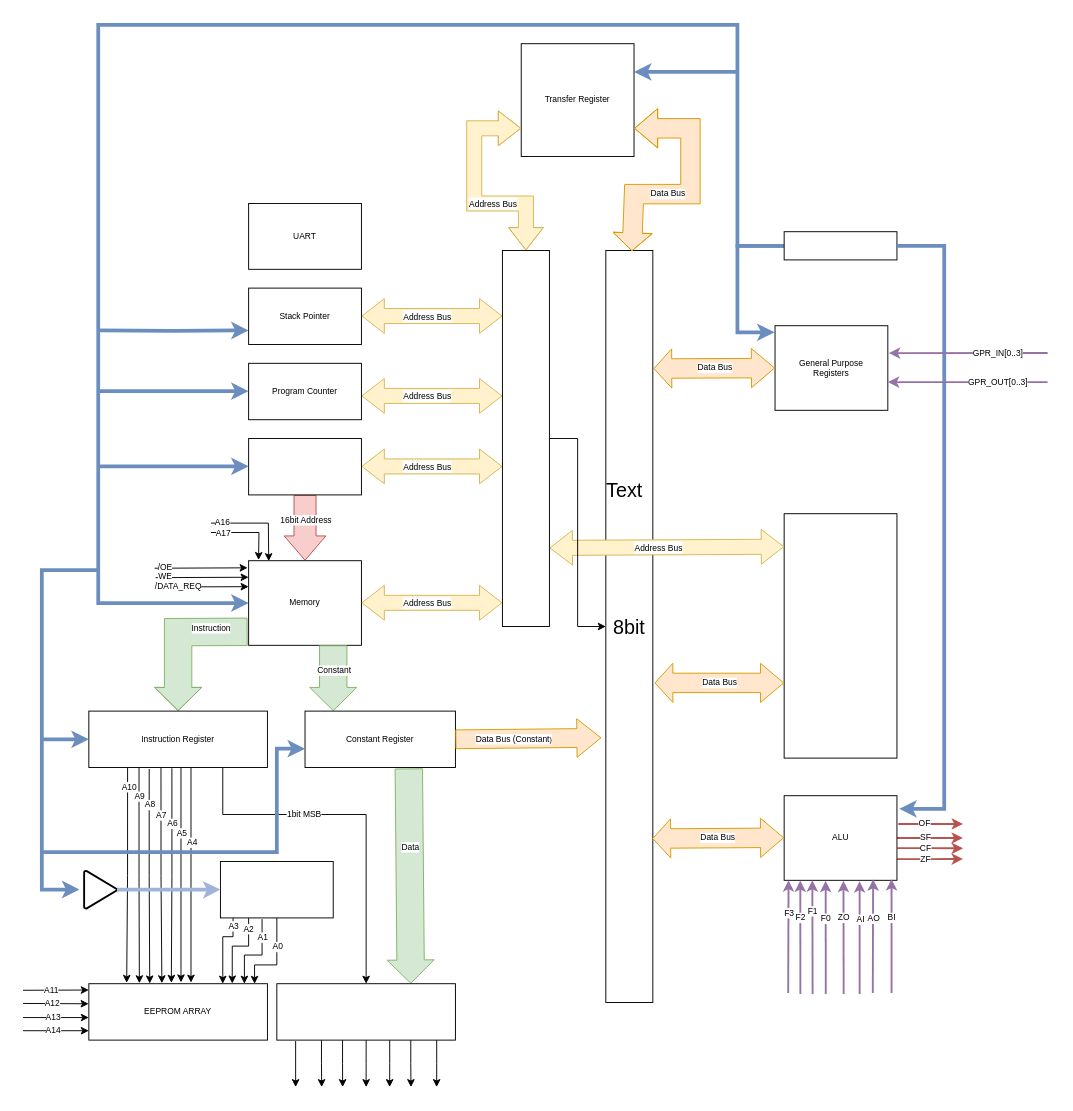
Image size: 1073x1111. Some labels were removed from this diagram. The shapes that lost their labels are listed below. From the top down, each one's centre as x and y in pixels, then its label:
At point 840,245: "Clock".
At point 525,438: "16bit".
At point 304,466: "Memory Address Register".
At point 840,635: "i/O".
At point 276,889: "STEP COUNTER".
At point 365,1011: "Extended Instruction Tri-State Buffer".
